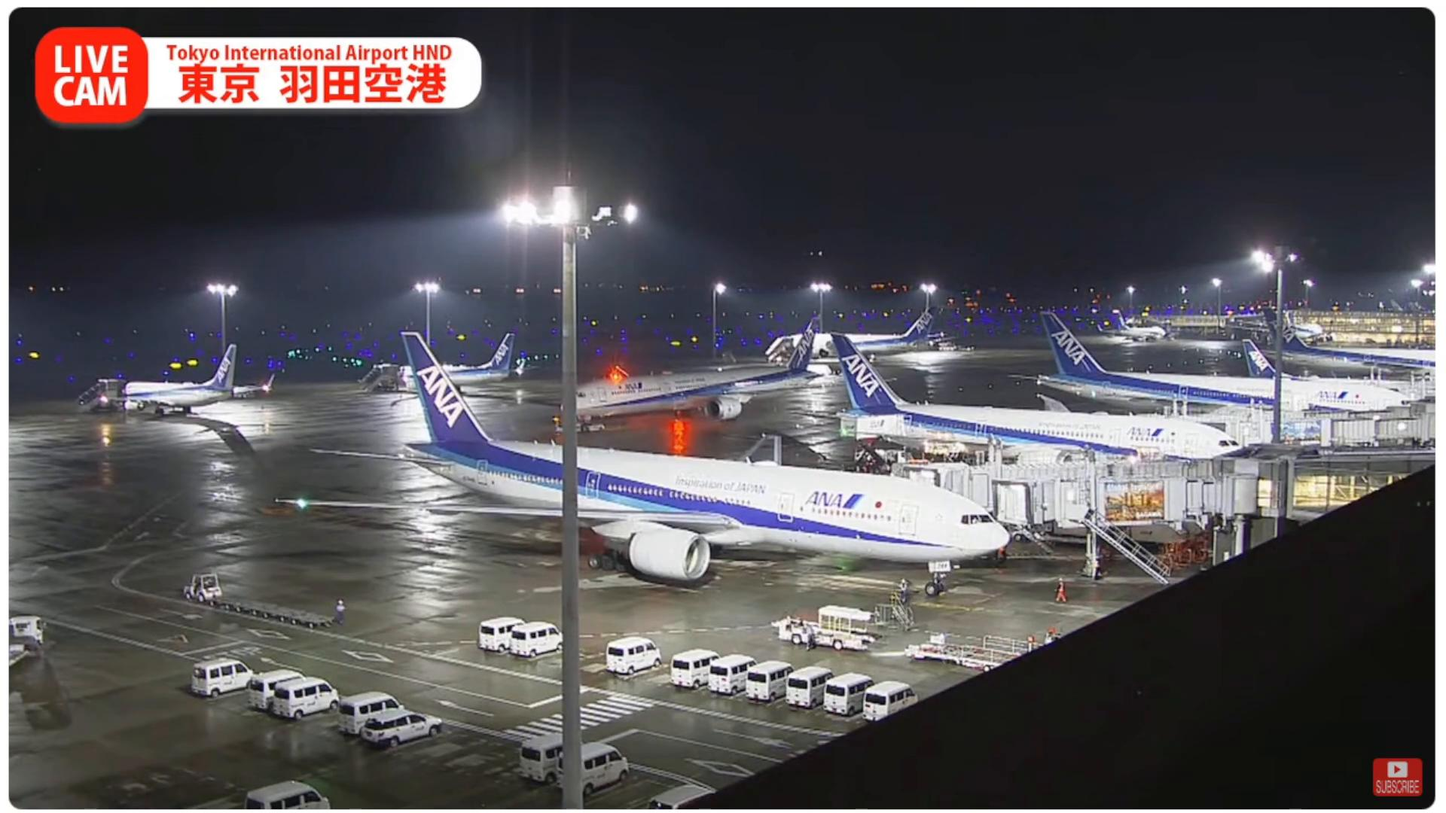Aerobridge: (904, 454, 1290, 516), (978, 469, 1279, 540)
Airplane: (262, 325, 1015, 592)
Dolly: (217, 593, 346, 639)
JCPL: (898, 634, 1015, 675), (950, 628, 1054, 653)
Skyloader: (765, 599, 889, 659)
Tractor: (169, 569, 227, 611)
Window: (1291, 459, 1429, 518)
